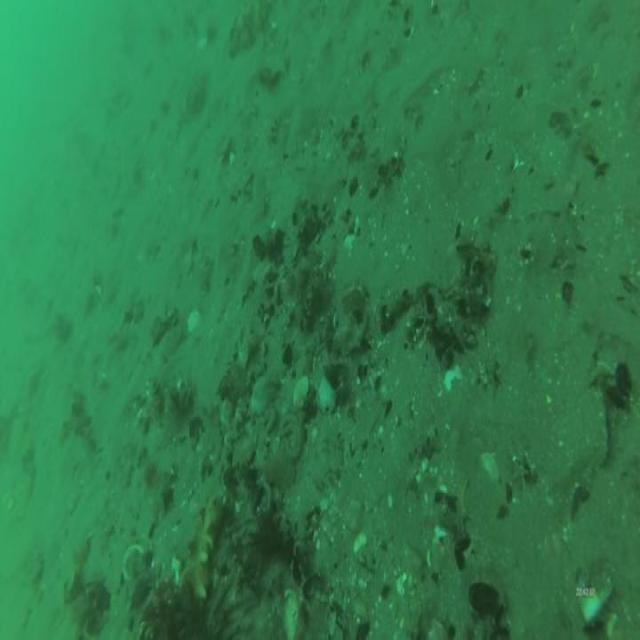holothurian: (183, 495, 224, 605)
